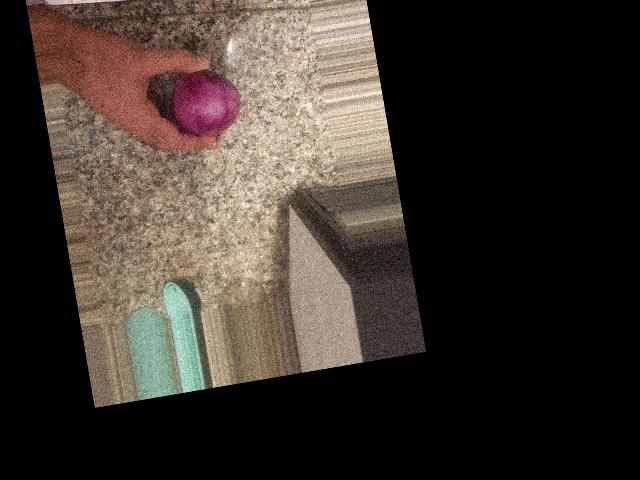onion: (165, 50, 250, 151)
